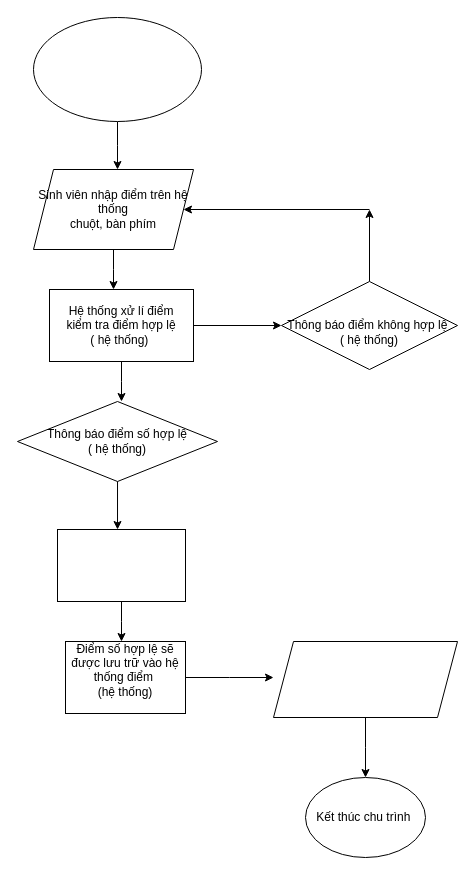
Image size: 475x875. Some labels were removed from this diagram. Here are the shapes that lost their labels. From the top down, the centre of each, then its label:
At point (117, 69): "Bắt đầu Sinh viên đăng nhập vào hệ thống (chuột,phím,app hệ thống)".
At point (121, 565): "Hệ thống tính điểm trung bình cho sinh viên ( hệ thống)".
At point (365, 679): "Hệ thống hiển thị bảng điểm cho sinh viên có thể in ra ( máy in chuột, hệ thống)".
